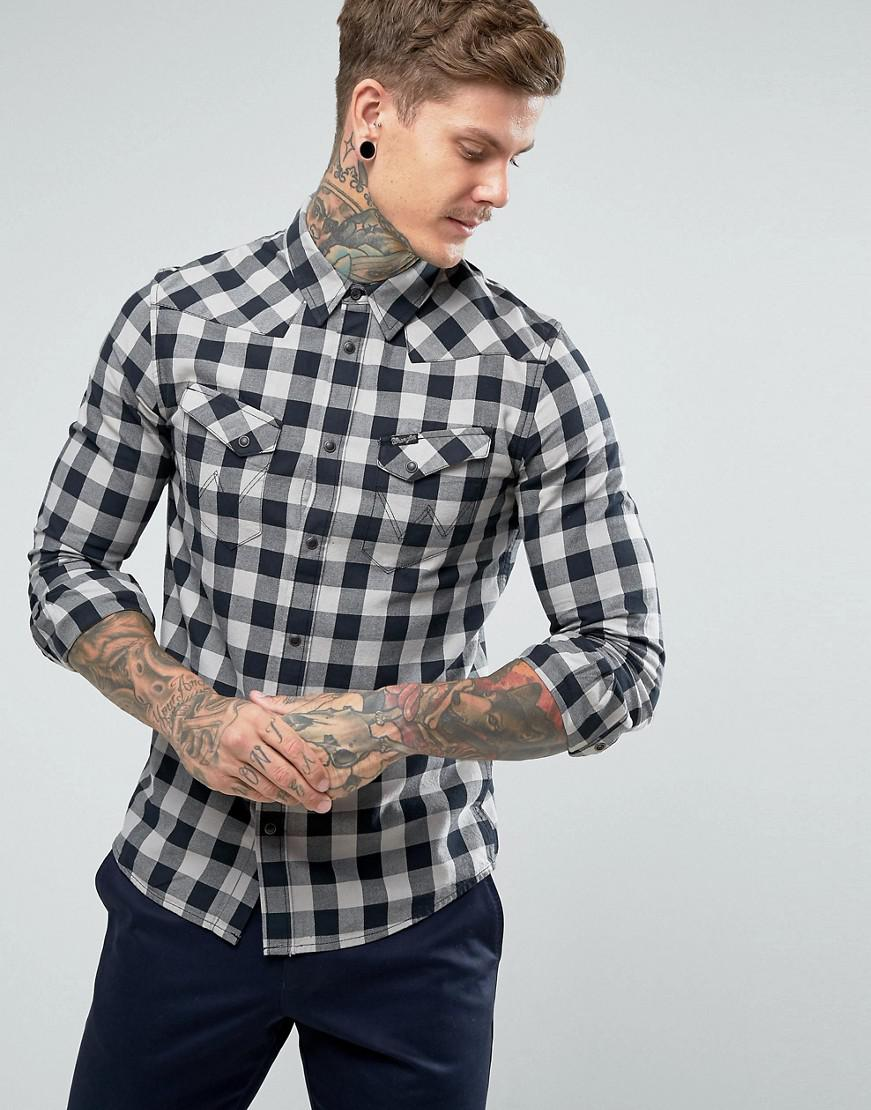teeshirt: (22, 203, 674, 952)
